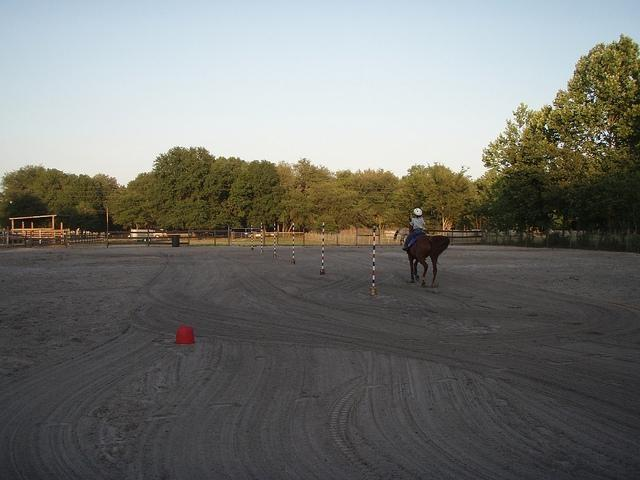truck: (128, 228, 148, 238)
